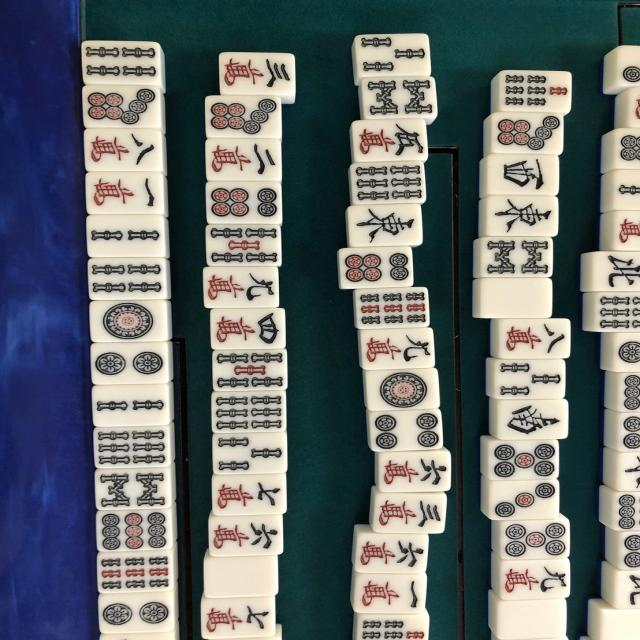bamboos_2: (81, 382, 170, 426), (84, 213, 167, 250)
bamboos_3: (486, 360, 566, 400), (353, 32, 428, 68), (214, 432, 284, 470)
bamboos_4: (75, 256, 170, 296), (80, 38, 158, 86)
bamboos_5: (204, 224, 286, 263), (206, 346, 283, 387)
bamboos_6: (212, 390, 284, 430), (88, 430, 172, 462), (347, 164, 422, 196)
bamboos_7: (491, 66, 572, 114)
bamboos_8: (349, 72, 446, 118), (82, 465, 174, 506), (472, 239, 554, 277)
bamboos_9: (351, 286, 431, 325), (95, 552, 176, 590)
characters_1: (84, 170, 165, 210), (350, 568, 427, 608)
characters_2: (201, 135, 288, 178)
characters_3: (216, 46, 291, 96), (371, 491, 449, 530)
characters_4: (205, 308, 283, 348)
characters_5: (342, 120, 430, 158)
characters_6: (202, 517, 291, 553), (352, 532, 428, 571), (375, 454, 450, 489)
characters_7: (195, 598, 281, 639), (209, 472, 287, 516)
characters_8: (81, 129, 163, 168), (490, 319, 572, 356)
characters_9: (204, 264, 286, 306), (490, 559, 566, 596), (359, 332, 434, 364)
circles_1: (83, 301, 167, 343), (364, 371, 438, 411)
circles_2: (83, 345, 179, 383), (94, 596, 176, 636)
circles_3: (480, 478, 561, 518)
circles_4: (363, 412, 445, 449)
circles_5: (486, 438, 564, 476), (497, 520, 570, 555)
circles_6: (204, 178, 286, 224), (330, 248, 419, 288)
circles_7: (484, 112, 564, 153), (80, 86, 164, 125), (203, 96, 277, 137)
circles_9: (94, 508, 173, 546)
east: (348, 204, 423, 246), (479, 198, 557, 235)
south: (490, 401, 568, 438)
west: (481, 156, 559, 193)
white: (485, 596, 571, 636), (193, 554, 279, 592), (474, 277, 550, 312)
